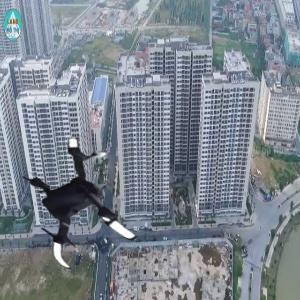drone: (4, 126, 151, 273)
